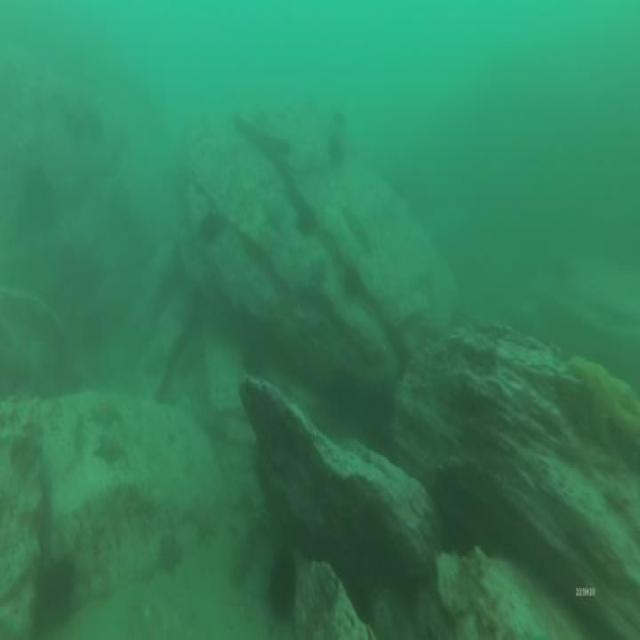echinus: (268, 552, 296, 620), (295, 200, 316, 236), (344, 264, 363, 302), (201, 208, 222, 242)
holothurian: (344, 201, 372, 253)
starfish: (192, 506, 217, 544), (157, 534, 180, 571), (92, 396, 116, 426), (93, 441, 121, 463)
